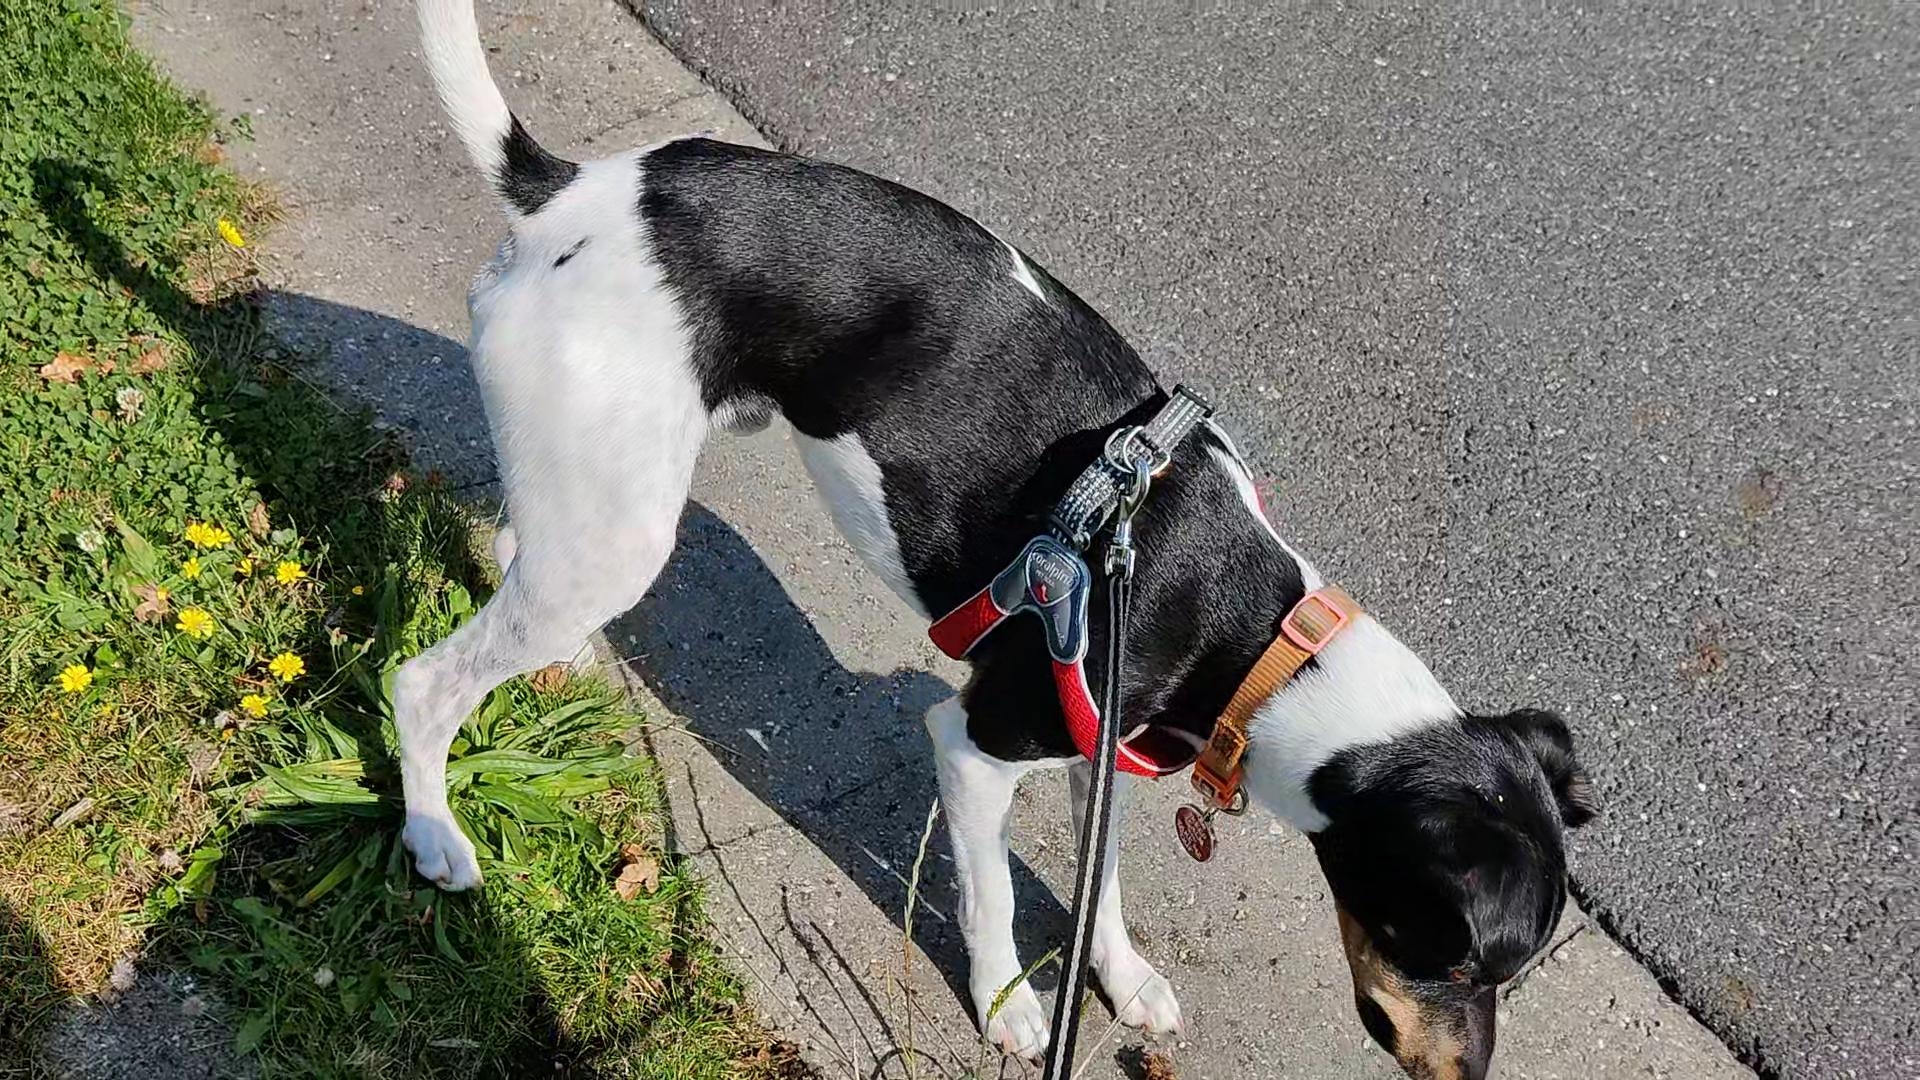Dog: (382, 0, 1600, 1080)
